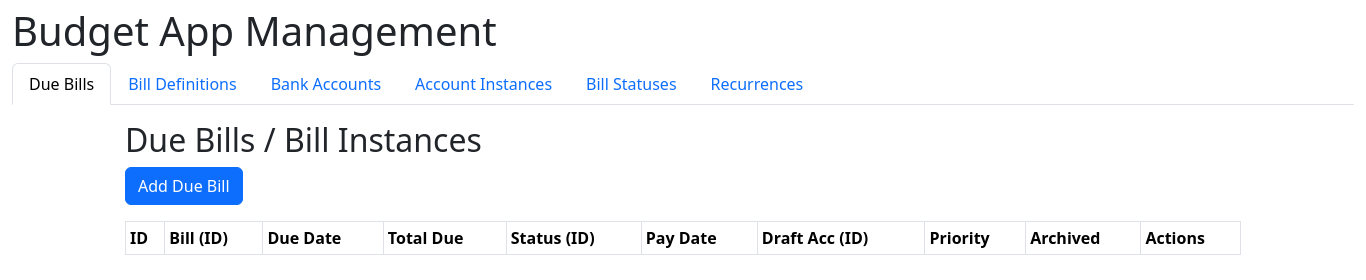
App Component Tabs Functionality › should switch to "Recurrences" tab and render its content when clicked
Click the tab "Recurrences": (758, 84) x1=694 y1=63 x2=821 y2=105
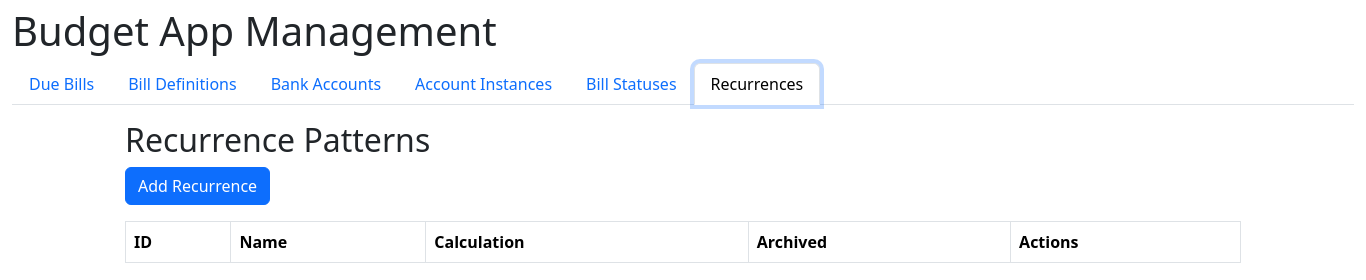
expect the heading "Recurrence Patterns" is shown: met, box x1=125 y1=118 x2=430 y2=161
expect the heading with test id "due-bills-heading" is gone: met
